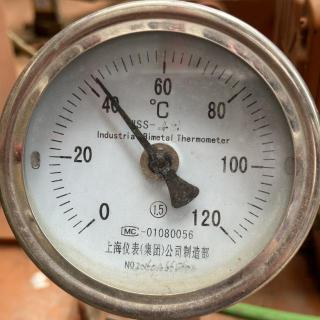gauge: (0, 0, 320, 320), (72, 205, 108, 237), (144, 148, 176, 176), (209, 214, 237, 244), (91, 73, 105, 87)
